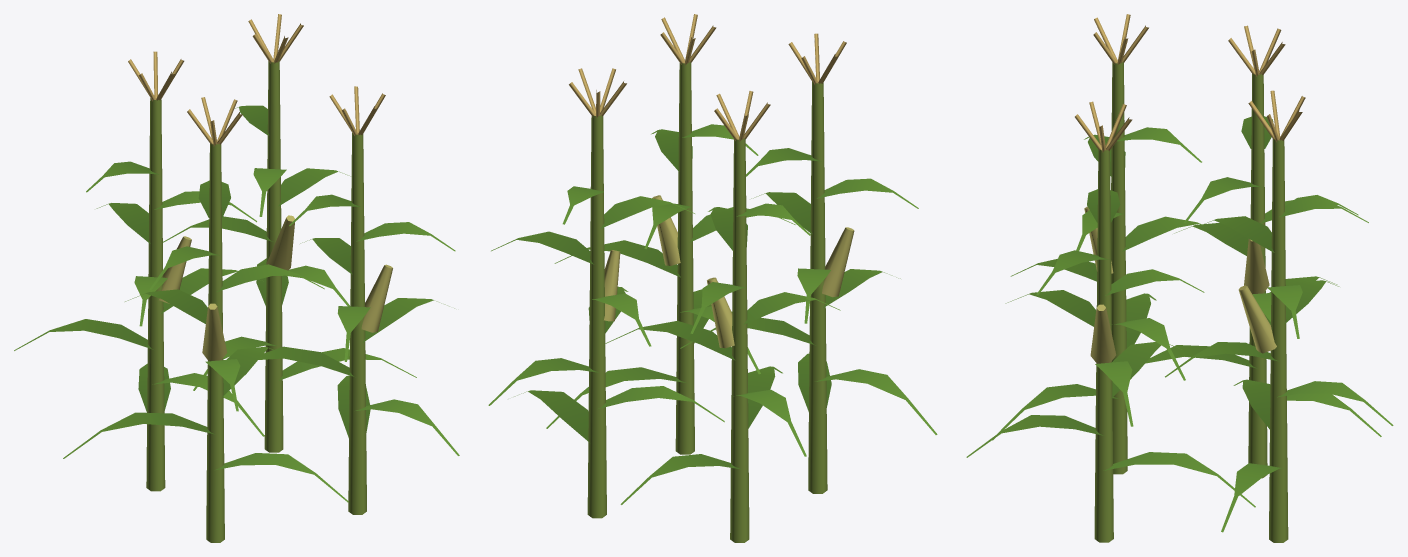
File: crop_corn.glb
3 views of the same model, side by side, from view 1: azimuth 30°, elevation 25°; view 2: azimuth 150°, elevation 25°; view 3: azimuth 270°, elevation 25° (orthographic). The views are drawn at different scales.
Parts seen in each view (by area): view 1: prop; view 2: prop; view 3: prop.
Part boxes in pixels (left/top/right/bottom): prop: left=14, top=14, right=459, bottom=542; prop: left=488, top=14, right=937, bottom=542; prop: left=966, top=14, right=1393, bottom=542.
Size of the model in its own units: 1.42 by 1.52 by 1.32.
